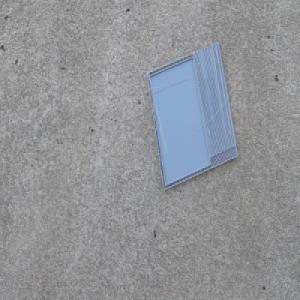PlasticPart: (146, 40, 239, 191)
